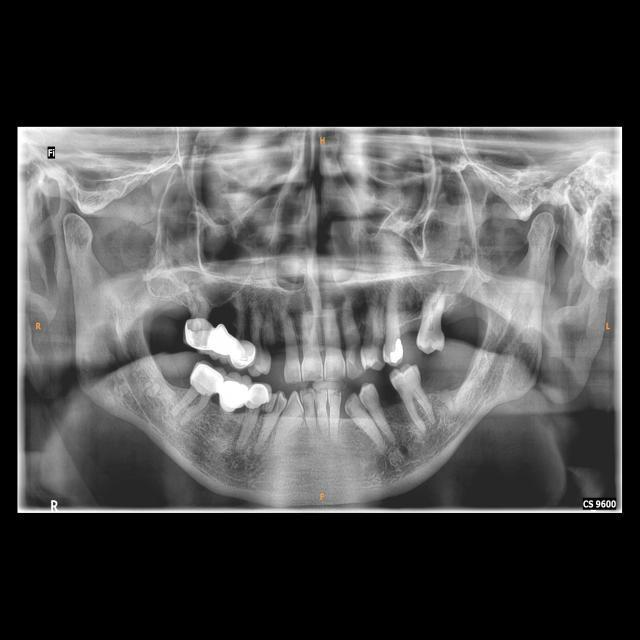dentin-curugu: (381, 437, 414, 469), (341, 338, 366, 377)
dolgu: (384, 337, 406, 369)
kaplama: (189, 362, 223, 398), (182, 320, 217, 350), (250, 381, 274, 412), (234, 341, 260, 369)
kopru: (190, 320, 250, 360), (204, 378, 264, 417)
